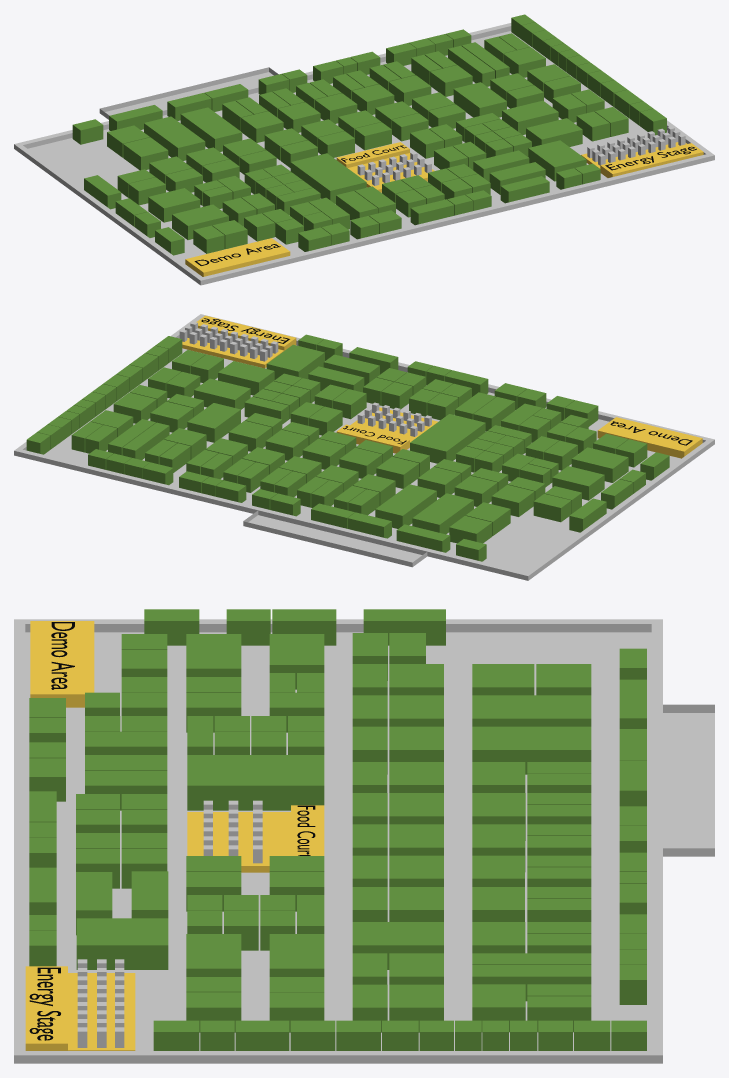
The model's file is MainExhibitionHall.glb.
The picture shows the model from 3 angles, top to bottom: view 1: azimuth 30°, elevation 25°; view 2: azimuth 150°, elevation 25°; view 3: azimuth 270°, elevation 25°; orthographic projection. The views are drawn at different scales.
Parts seen in each view (by area): view 1: Logistikk porter_curve_, Logistikk porter_curve_.001, BOOTHLAYER_curve_.B-4040, Demo_Area.B-1600, Cube.005, Energy_stage.B-1350, BOOTHLAYER_curve_.B-2035, BOOTHLAYER_curve_.B-2025, Food_Court.B-4050, BOOTHLAYER_curve_.B-5100, BOOTHLAYER_curve_.B-3100, Cube (+86 smaller); view 2: Logistikk porter_curve_, Logistikk porter_curve_.001, BOOTHLAYER_curve_.B-4040, Demo_Area.B-1600, Energy_stage.B-1350, Cube.005, BOOTHLAYER_curve_.B-2035, BOOTHLAYER_curve_.B-2025, Food_Court.B-4050, BOOTHLAYER_curve_.B-3100, BOOTHLAYER_curve_.B-5100, Cube (+81 smaller); view 3: Logistikk porter_curve_.001, Logistikk porter_curve_, BOOTHLAYER_curve_.B-4040, Energy_stage.B-1350, Food_Court.B-4050, Demo_Area.B-1600, BOOTHLAYER_curve_.B-5100, BOOTHLAYER_curve_.B-2035, BOOTHLAYER_curve_.B-2025, BOOTHLAYER_curve_.B-3100, Cube.005, BOOTHLAYER_curve_.B-2124 (+119 smaller).
Part boxes in pixels (bbox=[...]): Logistikk porter_curve_: bbox=[14, 23, 714, 285]; Logistikk porter_curve_.001: bbox=[28, 31, 667, 263]; BOOTHLAYER_curve_.B-4040: bbox=[290, 153, 366, 203]; Demo_Area.B-1600: bbox=[185, 238, 290, 276]; Cube.005: bbox=[587, 126, 685, 165]; Energy_stage.B-1350: bbox=[581, 142, 703, 177]; BOOTHLAYER_curve_.B-2035: bbox=[180, 107, 242, 151]; BOOTHLAYER_curve_.B-2025: bbox=[144, 116, 205, 160]; Food_Court.B-4050: bbox=[336, 142, 434, 192]; BOOTHLAYER_curve_.B-5100: bbox=[528, 140, 586, 181]; BOOTHLAYER_curve_.B-3100: bbox=[453, 82, 506, 117]; Cube: bbox=[357, 151, 431, 185]; Logistikk porter_curve_: bbox=[14, 314, 714, 580]; Logistikk porter_curve_.001: bbox=[44, 345, 680, 572]; BOOTHLAYER_curve_.B-4040: bbox=[410, 414, 485, 463]; Demo_Area.B-1600: bbox=[597, 417, 702, 458]; Energy_stage.B-1350: bbox=[182, 315, 296, 368]; Cube.005: bbox=[179, 321, 278, 361]; BOOTHLAYER_curve_.B-2035: bbox=[375, 484, 436, 528]; BOOTHLAYER_curve_.B-2025: bbox=[412, 493, 473, 534]; Food_Court.B-4050: bbox=[336, 407, 437, 453]; BOOTHLAYER_curve_.B-3100: bbox=[187, 403, 240, 442]; BOOTHLAYER_curve_.B-5100: bbox=[266, 344, 324, 379]; Cube: bbox=[357, 402, 431, 436]; Logistikk porter_curve_.001: bbox=[25, 632, 714, 1050]; Logistikk porter_curve_: bbox=[14, 619, 714, 1063]; BOOTHLAYER_curve_.B-4040: bbox=[187, 755, 324, 810]; Energy_stage.B-1350: bbox=[25, 966, 135, 1050]; Food_Court.B-4050: bbox=[187, 805, 324, 872]; Demo_Area.B-1600: bbox=[30, 621, 94, 707]; BOOTHLAYER_curve_.B-5100: bbox=[76, 918, 168, 969]; BOOTHLAYER_curve_.B-2035: bbox=[472, 726, 591, 774]; BOOTHLAYER_curve_.B-2025: bbox=[472, 695, 591, 726]; BOOTHLAYER_curve_.B-3100: bbox=[352, 922, 443, 969]; Cube.005: bbox=[77, 959, 124, 1047]; BOOTHLAYER_curve_.B-2124: bbox=[472, 965, 591, 1001].
Size of the model in its own units: 113 by 3 by 76.73.
